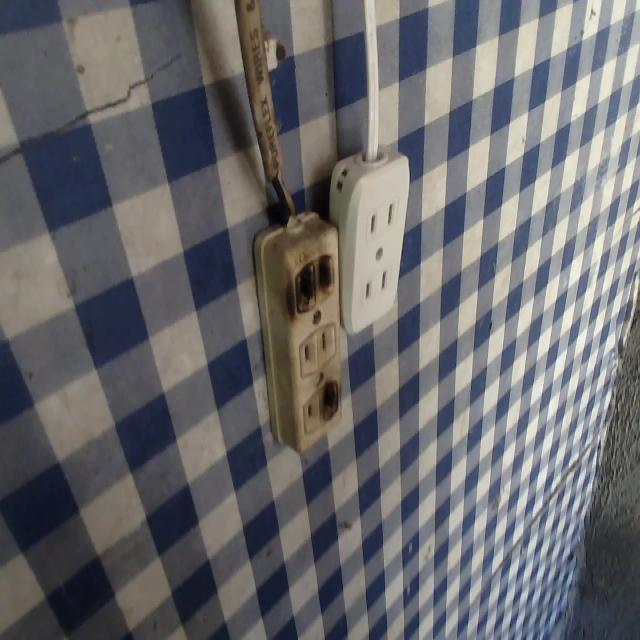-: (288, 252, 339, 313), (315, 373, 347, 420)
